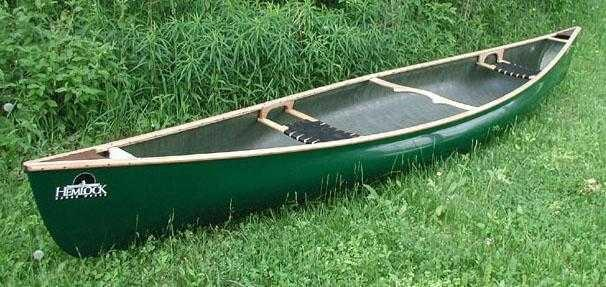kayak: (29, 29, 587, 257)
